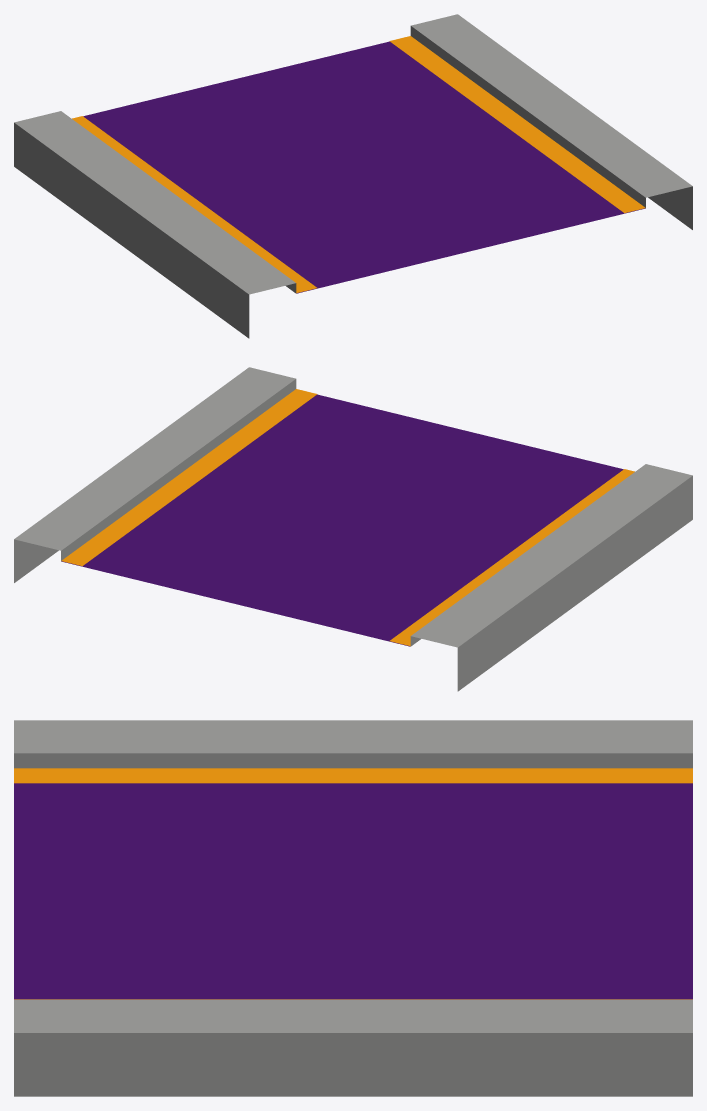
Rendered from Road_C_14.fbx.
3 renders of one model, top to bottom at view 1: azimuth 30°, elevation 25°; view 2: azimuth 150°, elevation 25°; view 3: azimuth 270°, elevation 25°, orthographic. The views are drawn at different scales.
Parts seen in each view (by area): view 1: Road_C_14; view 2: Road_C_14; view 3: Road_C_14.
Part boxes in pixels (left/top/right/bottom): Road_C_14: left=14, top=14, right=692, bottom=338; Road_C_14: left=14, top=367, right=692, bottom=691; Road_C_14: left=14, top=720, right=692, bottom=1096.
Size of the model in its own units: 436 by 41.48 by 400.
